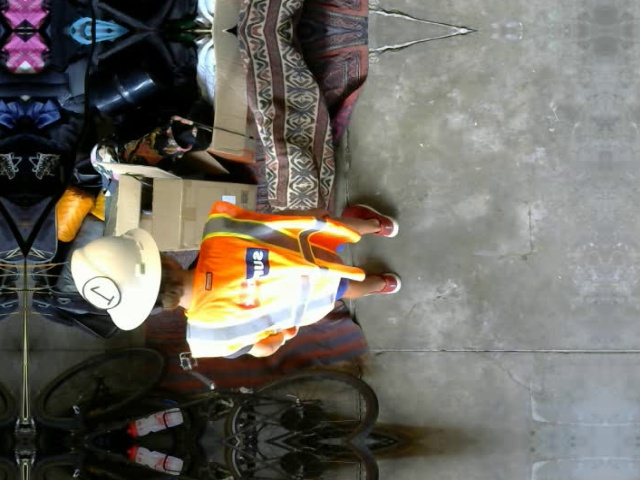one: (81, 275, 119, 309)
